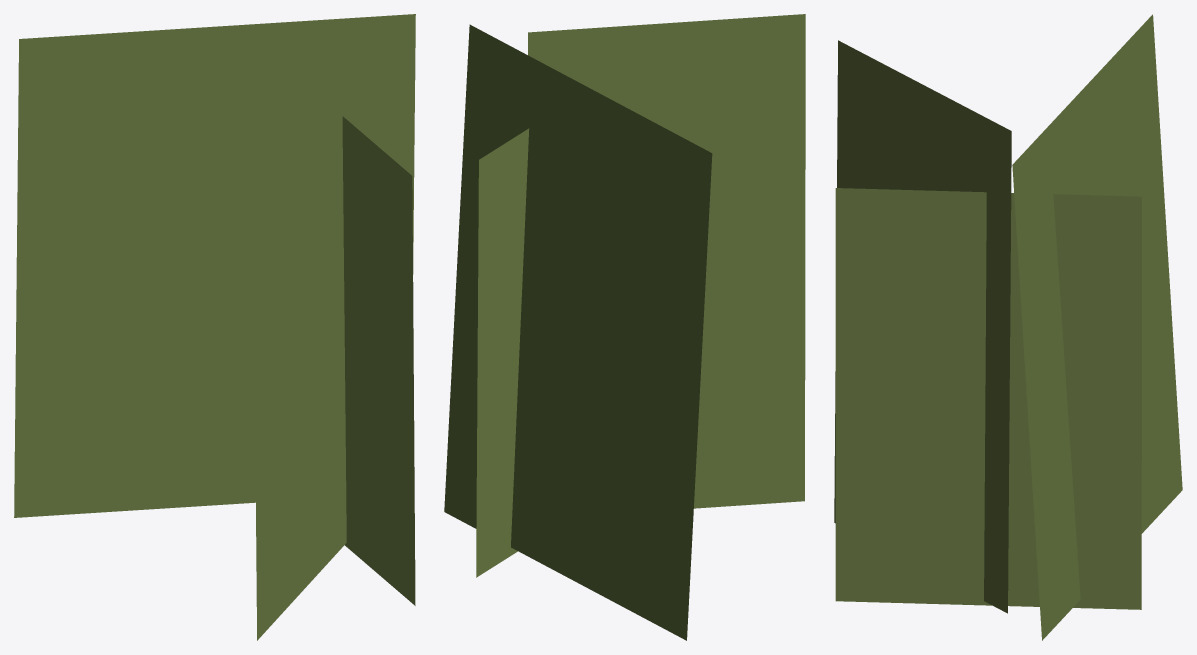
File: bush-v1.lod2.glb
The picture shows the model from 3 angles, left to right: view 1: azimuth 30°, elevation 25°; view 2: azimuth 150°, elevation 25°; view 3: azimuth 270°, elevation 25°; orthographic projection. The views are drawn at different scales.
Visible parts, largest first — view 1: bush-v1.lod2; view 2: bush-v1.lod2; view 3: bush-v1.lod2.
Part boxes in pixels (<box>): bush-v1.lod2: <box>14,14,415,640</box>; bush-v1.lod2: <box>444,14,805,640</box>; bush-v1.lod2: <box>834,14,1182,640</box>.
Bounding box in the file's own units: 1.18 × 1.71 × 1.11.
